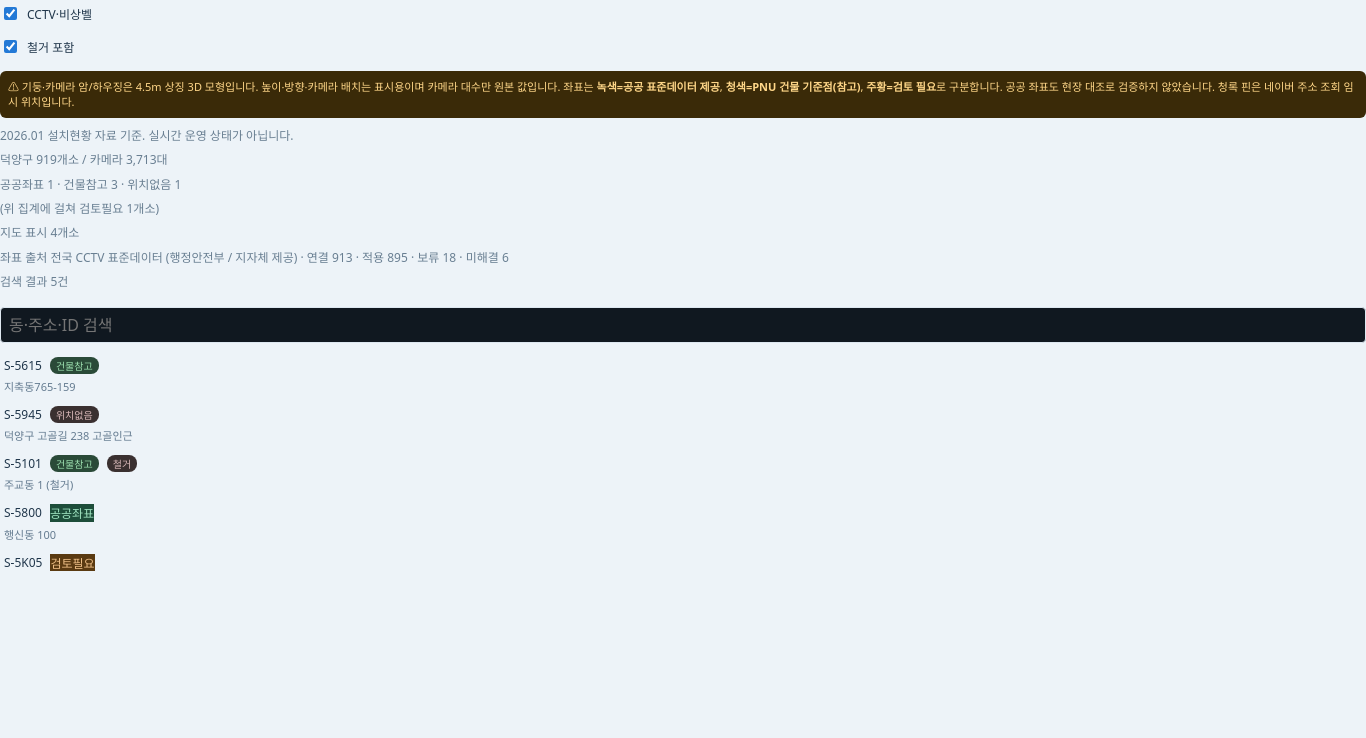
Test case: FacilitiesPanel › labels removed status as 철거
The image size is (1366, 738).
Click the button "S-5101 건물참고 철거 주교동 1 (철거)" at (23, 463), box [0,448,1365,498]
(page scrolled)
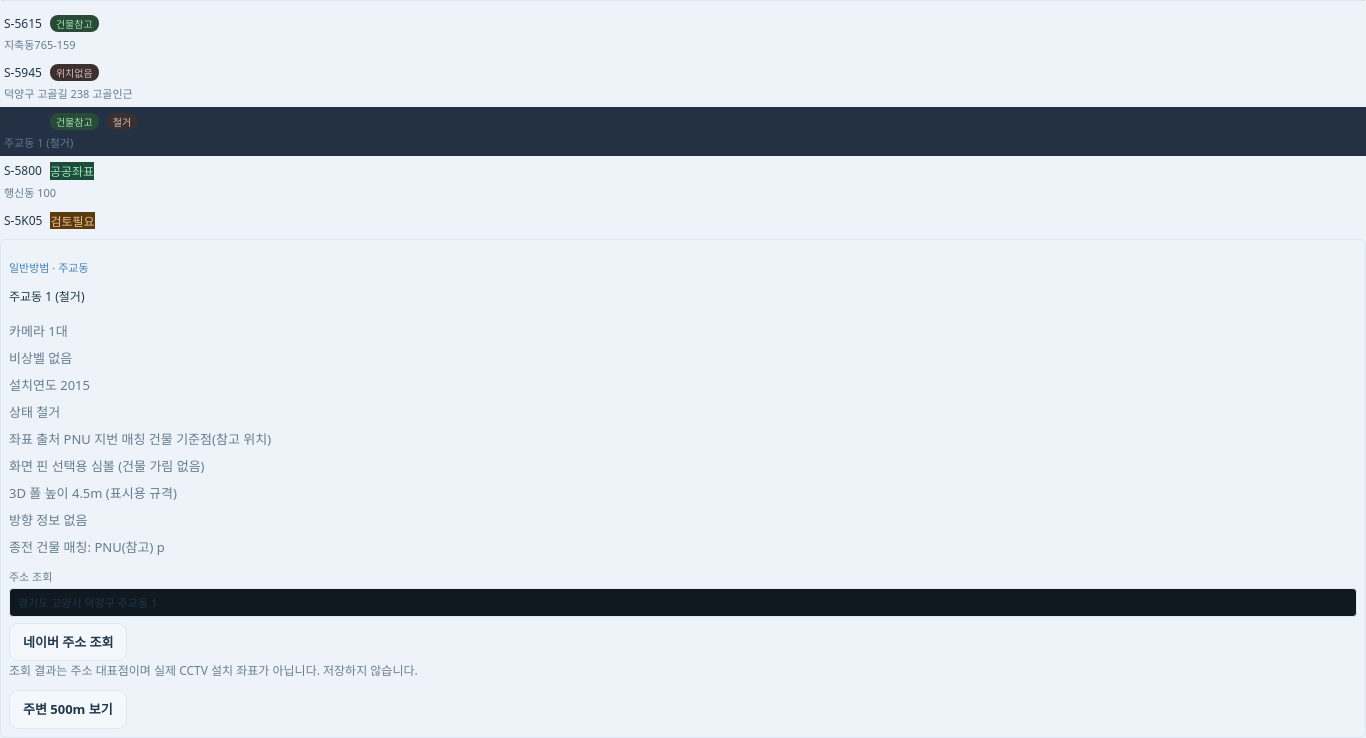
Check: the element with test id "cctv-detail" shows "상태 철거"
